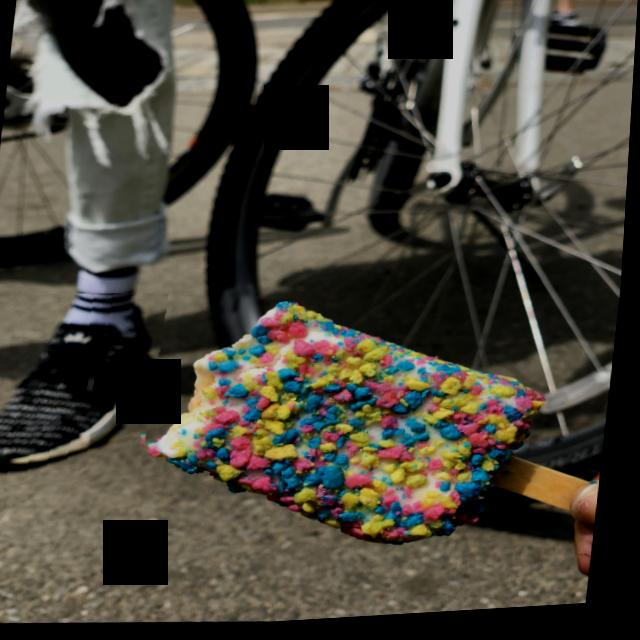shoe: (0, 285, 173, 497)
